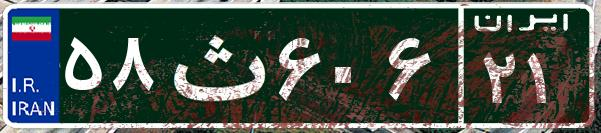0: (330, 28, 385, 110)
1: (525, 38, 570, 115)
2: (475, 38, 525, 113)
5: (57, 26, 110, 107)
6: (385, 28, 445, 110), (273, 28, 330, 110)
8: (110, 28, 158, 105)
ث: (158, 15, 273, 115)
